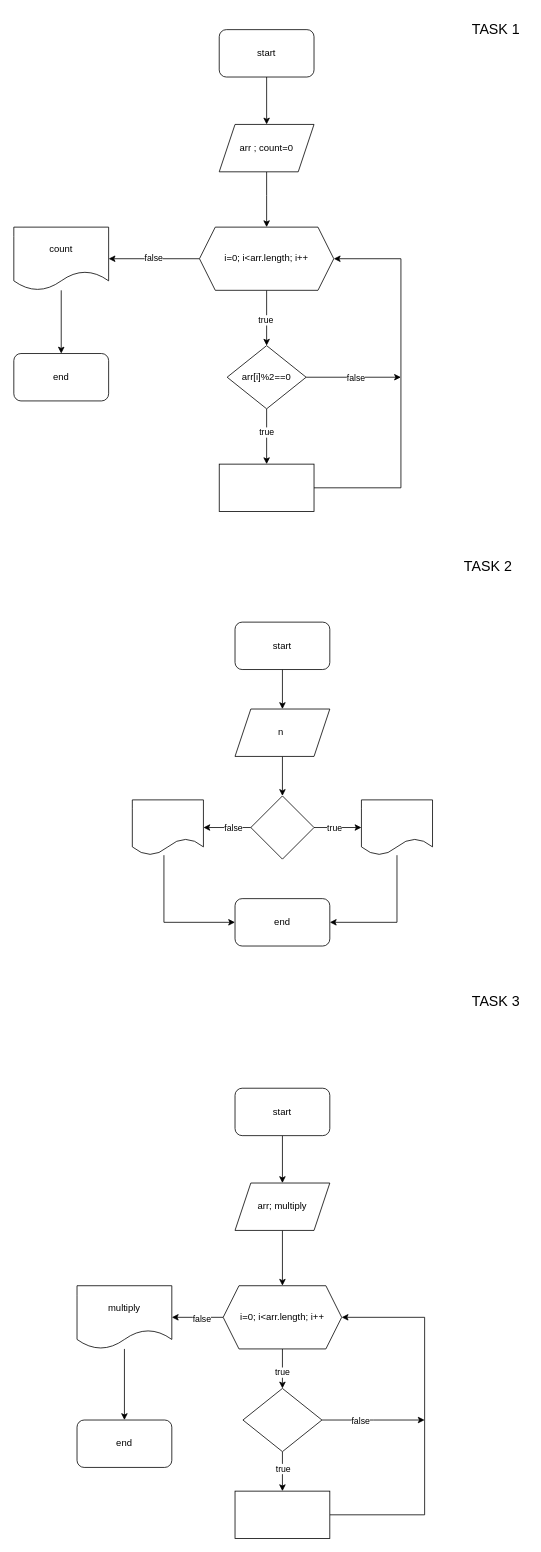
The diagram is 541 pixels wide and 1552 high, and some of its shapes have lost their labels. Each missing label, with the centre of its shape:
arr[i] >=1 && arr [i] <=20: pixel 282 1420
complex: pixel 397 827
count == 2: pixel 282 827
count++: pixel 266 487
multiply*=arr[i]: pixel 282 1514
simple: pixel 167 827
